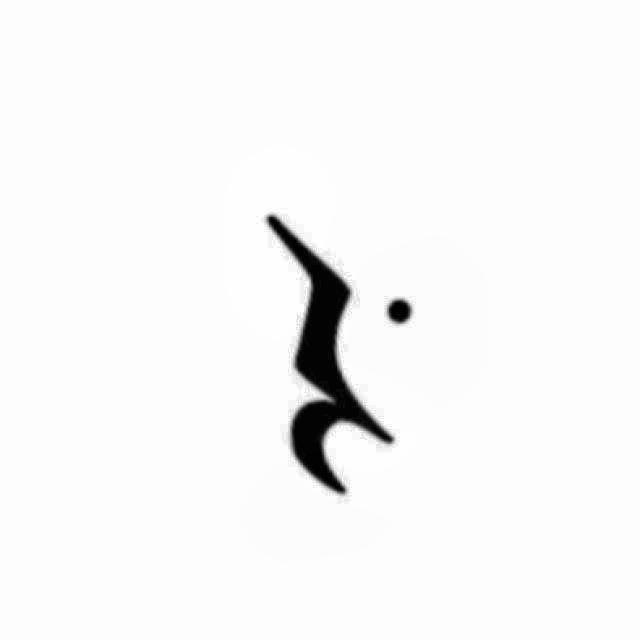Quarter-rest: (250, 196, 438, 504)
